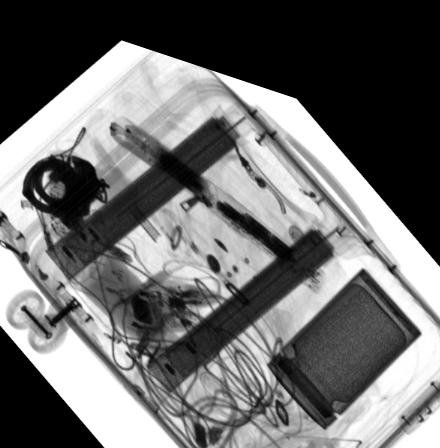Baton: (107, 107, 323, 274)
HandCuffs: (19, 152, 108, 214)
